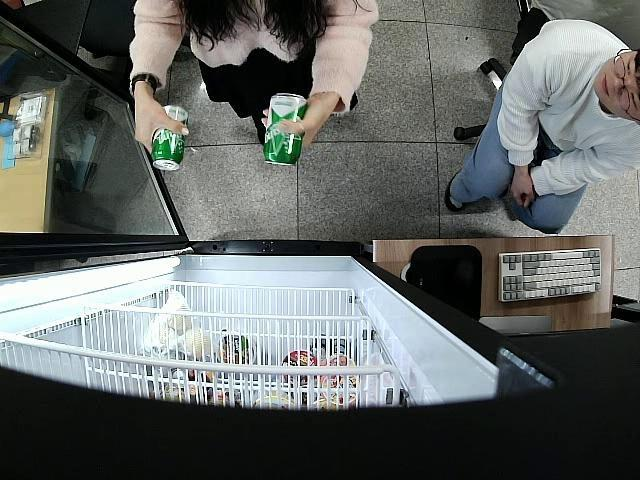12_chilsungCider: (262, 93, 310, 168), (151, 106, 190, 171)
